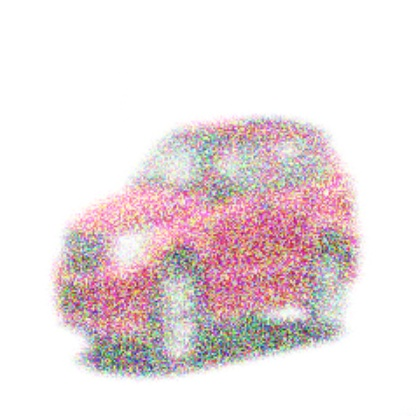Vehicle: (40, 114, 362, 382)
